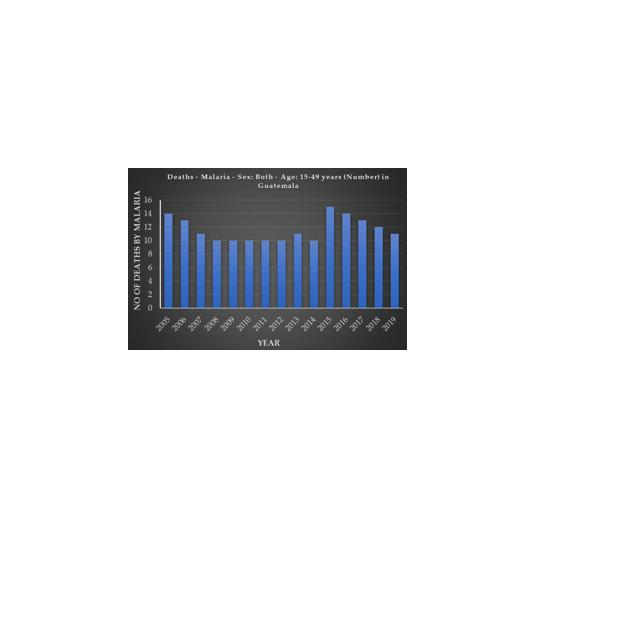Graph: (128, 168, 407, 350)
